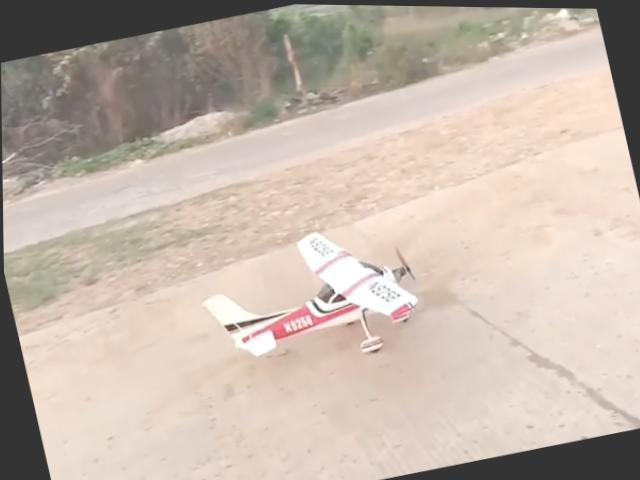plane: (189, 210, 427, 386)
